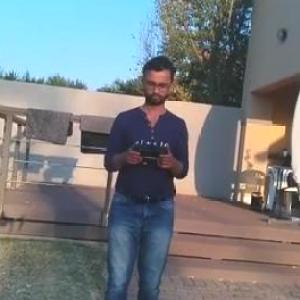follow: (101, 56, 201, 299)
